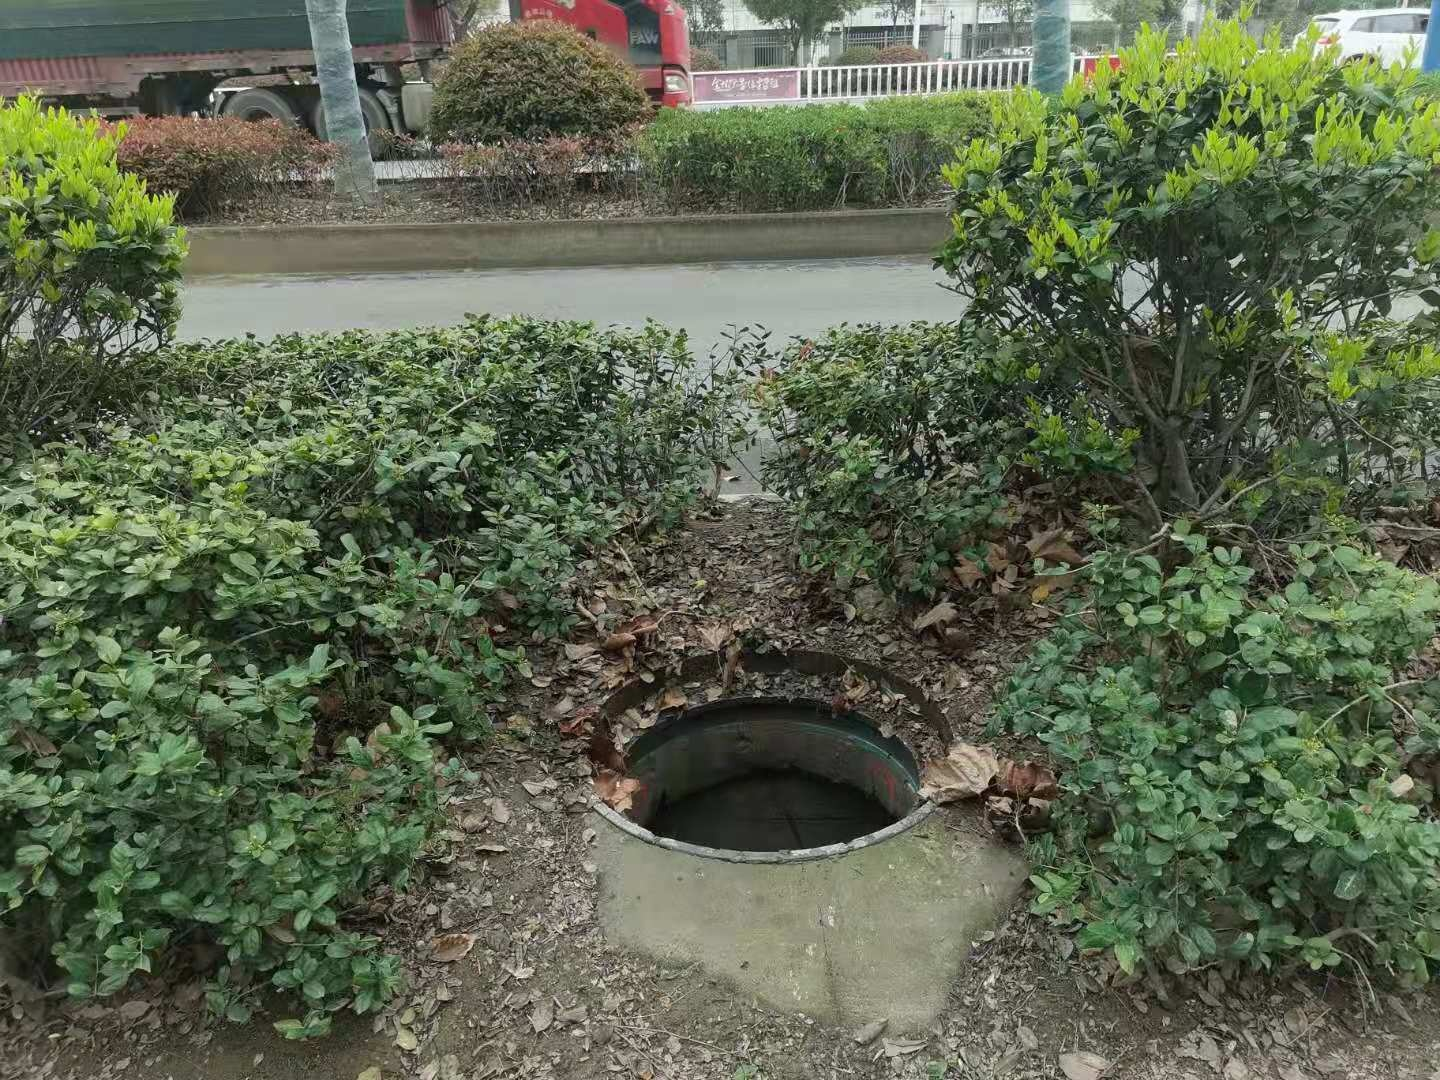lose: (581, 641, 951, 862)
